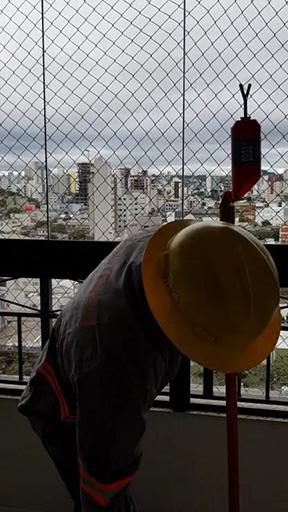Detector_Tensao_Contato: (230, 82, 262, 201)
Vara_Manobra: (220, 198, 242, 512)
